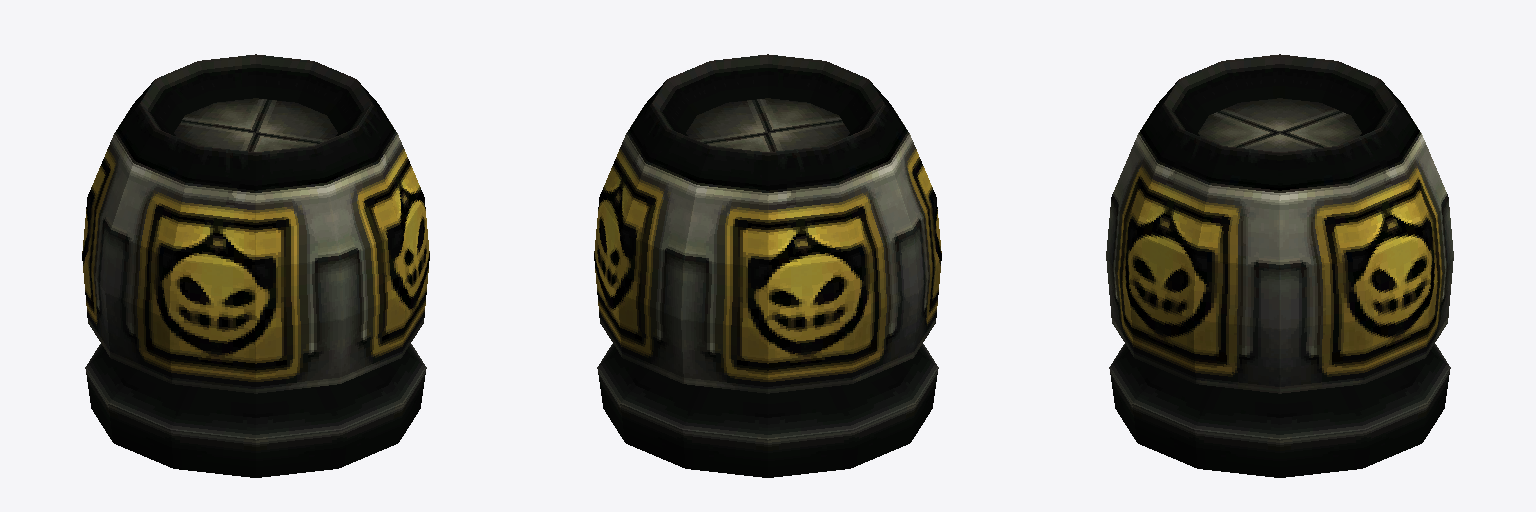
3 renders of one model, left to right at view 1: azimuth 30°, elevation 25°; view 2: azimuth 150°, elevation 25°; view 3: azimuth 270°, elevation 25°, orthographic.
Visible parts, largest first — view 1: Object01; view 2: Object01; view 3: Object01.
Boxes of the visible parts, x1=… form: Object01: x1=82, y1=54, x2=429, y2=477; Object01: x1=594, y1=54, x2=941, y2=477; Object01: x1=1106, y1=54, x2=1453, y2=477.
Size of the model in its own units: 24.75 by 23.95 by 24.75.
1 materials, 1 textured.